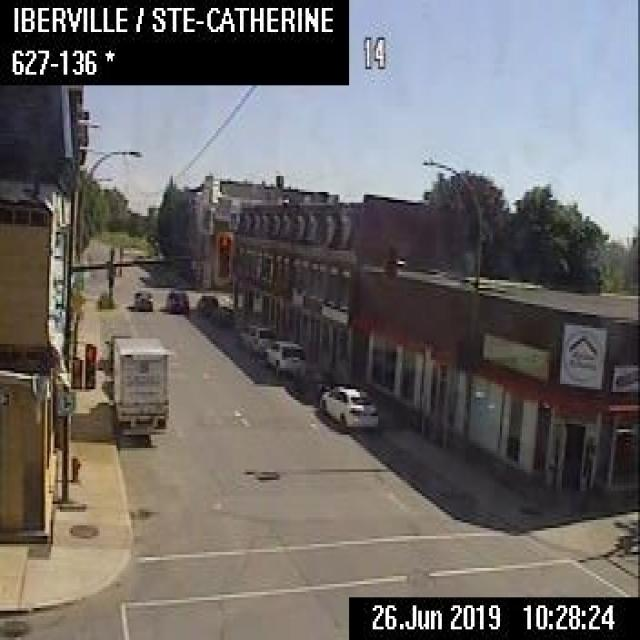vehicle: (107, 333, 169, 440), (315, 381, 378, 432), (263, 338, 307, 378), (246, 324, 275, 355), (164, 288, 187, 312), (194, 293, 218, 316), (131, 286, 153, 310), (210, 304, 232, 325)
